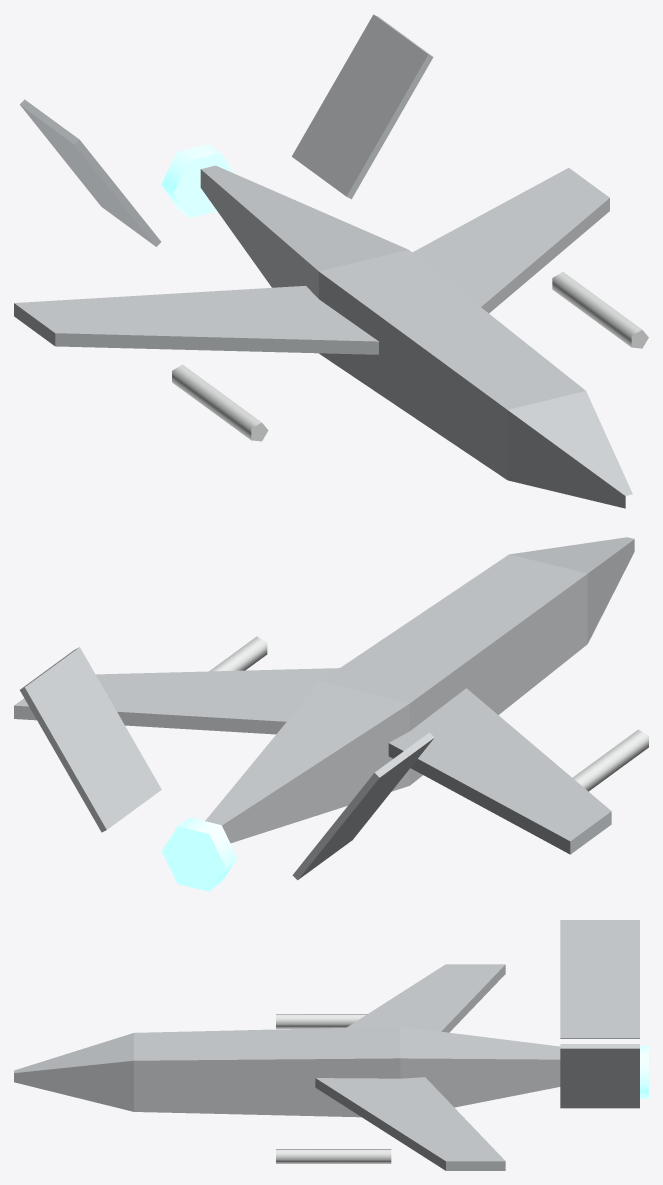
File: veh_air_drone_strike_a09_lod1.glb
The picture shows the model from 3 angles, top to bottom: view 1: azimuth 30°, elevation 25°; view 2: azimuth 150°, elevation 25°; view 3: azimuth 270°, elevation 25°; orthographic projection. The views are drawn at different scales.
Visible parts, largest first — view 1: body; view 2: body; view 3: body.
Boxes of the visible parts, left/top/right/bottom form: body: left=14, top=14, right=648, bottom=508; body: left=14, top=537, right=648, bottom=891; body: left=14, top=920, right=648, bottom=1170.
Size of the model in its own units: 5.25 by 1.49 by 7.15.
